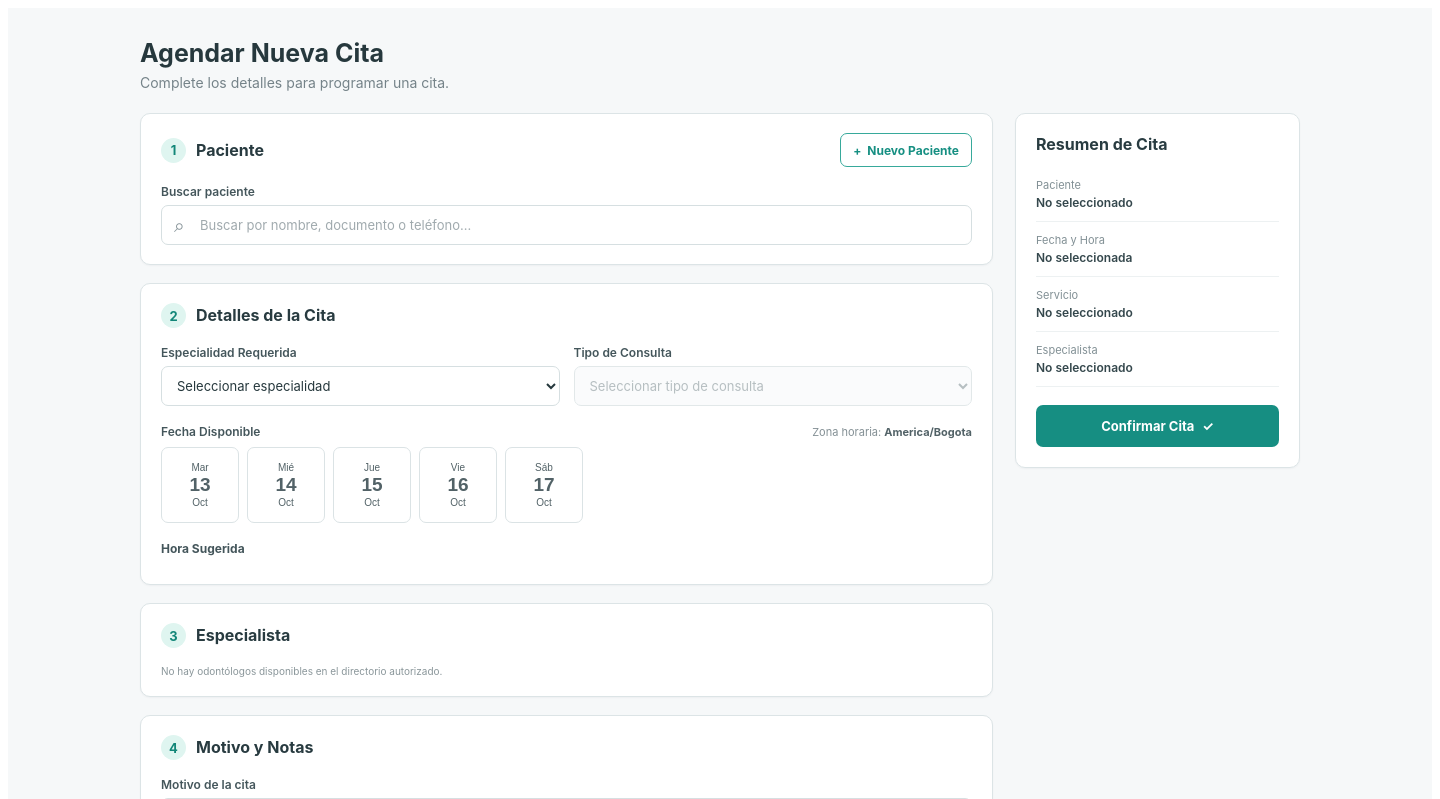
Test: SchedulingPageComponent › searches active patients and renders matching results
Type "Ana" into the search field labelled "Buscar paciente" at (566, 225), box [161, 205, 972, 245]
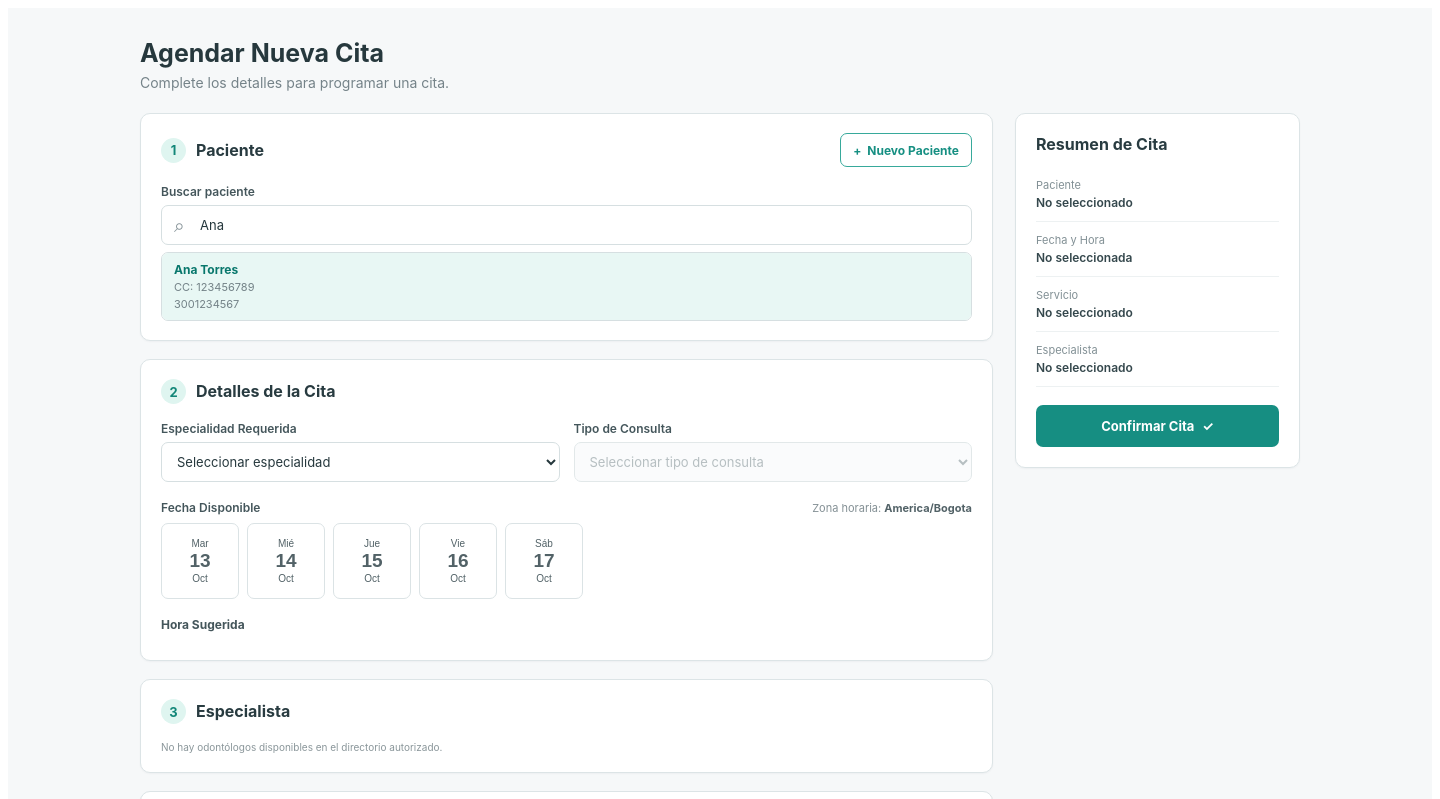
Expected: the option "Ana Torres CC: 123456789 3001234567" is shown, [162, 253, 971, 320]
Expected: the list is shown, [161, 252, 972, 321]
